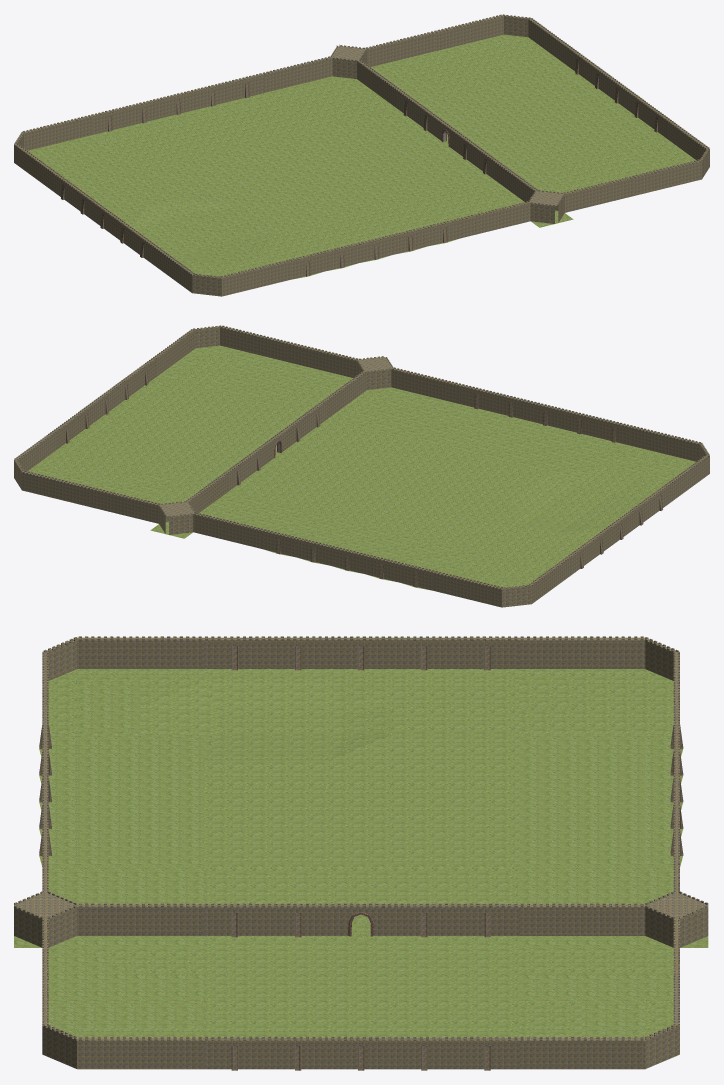
Rendered from map50Field2.fbx.
The picture shows the model from 3 angles, top to bottom: view 1: azimuth 30°, elevation 25°; view 2: azimuth 150°, elevation 25°; view 3: azimuth 270°, elevation 25°; orthographic projection. The views are drawn at different scales.
Visible parts, largest first — view 1: map50F_Layer1, map50F_Layer2, map50F_Layer4, map50F_Layer5; view 2: map50F_Layer1, map50F_Layer2, map50F_Layer4, map50F_Layer5; view 3: map50F_Layer1, map50F_Layer2, map50F_Layer4, map50F_Layer5.
Boxes of the visible parts, box(x1,y1,x2,y2) form: map50F_Layer1: box(28, 34, 696, 279); map50F_Layer2: box(14, 15, 709, 296); map50F_Layer4: box(14, 14, 709, 278); map50F_Layer5: box(61, 59, 657, 276); map50F_Layer1: box(27, 345, 695, 590); map50F_Layer2: box(14, 326, 709, 607); map50F_Layer4: box(14, 325, 709, 589); map50F_Layer5: box(66, 370, 662, 587); map50F_Layer1: box(14, 669, 708, 1037); map50F_Layer2: box(14, 637, 708, 1069); map50F_Layer4: box(14, 636, 708, 1040); map50F_Layer5: box(39, 646, 683, 1070).
Bounding box in the file's own units: 3.04 × 0.1117 × 2.21.
